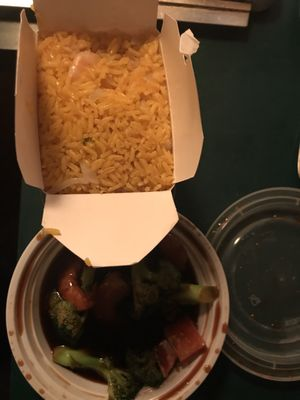salad: (4, 10, 234, 399)
